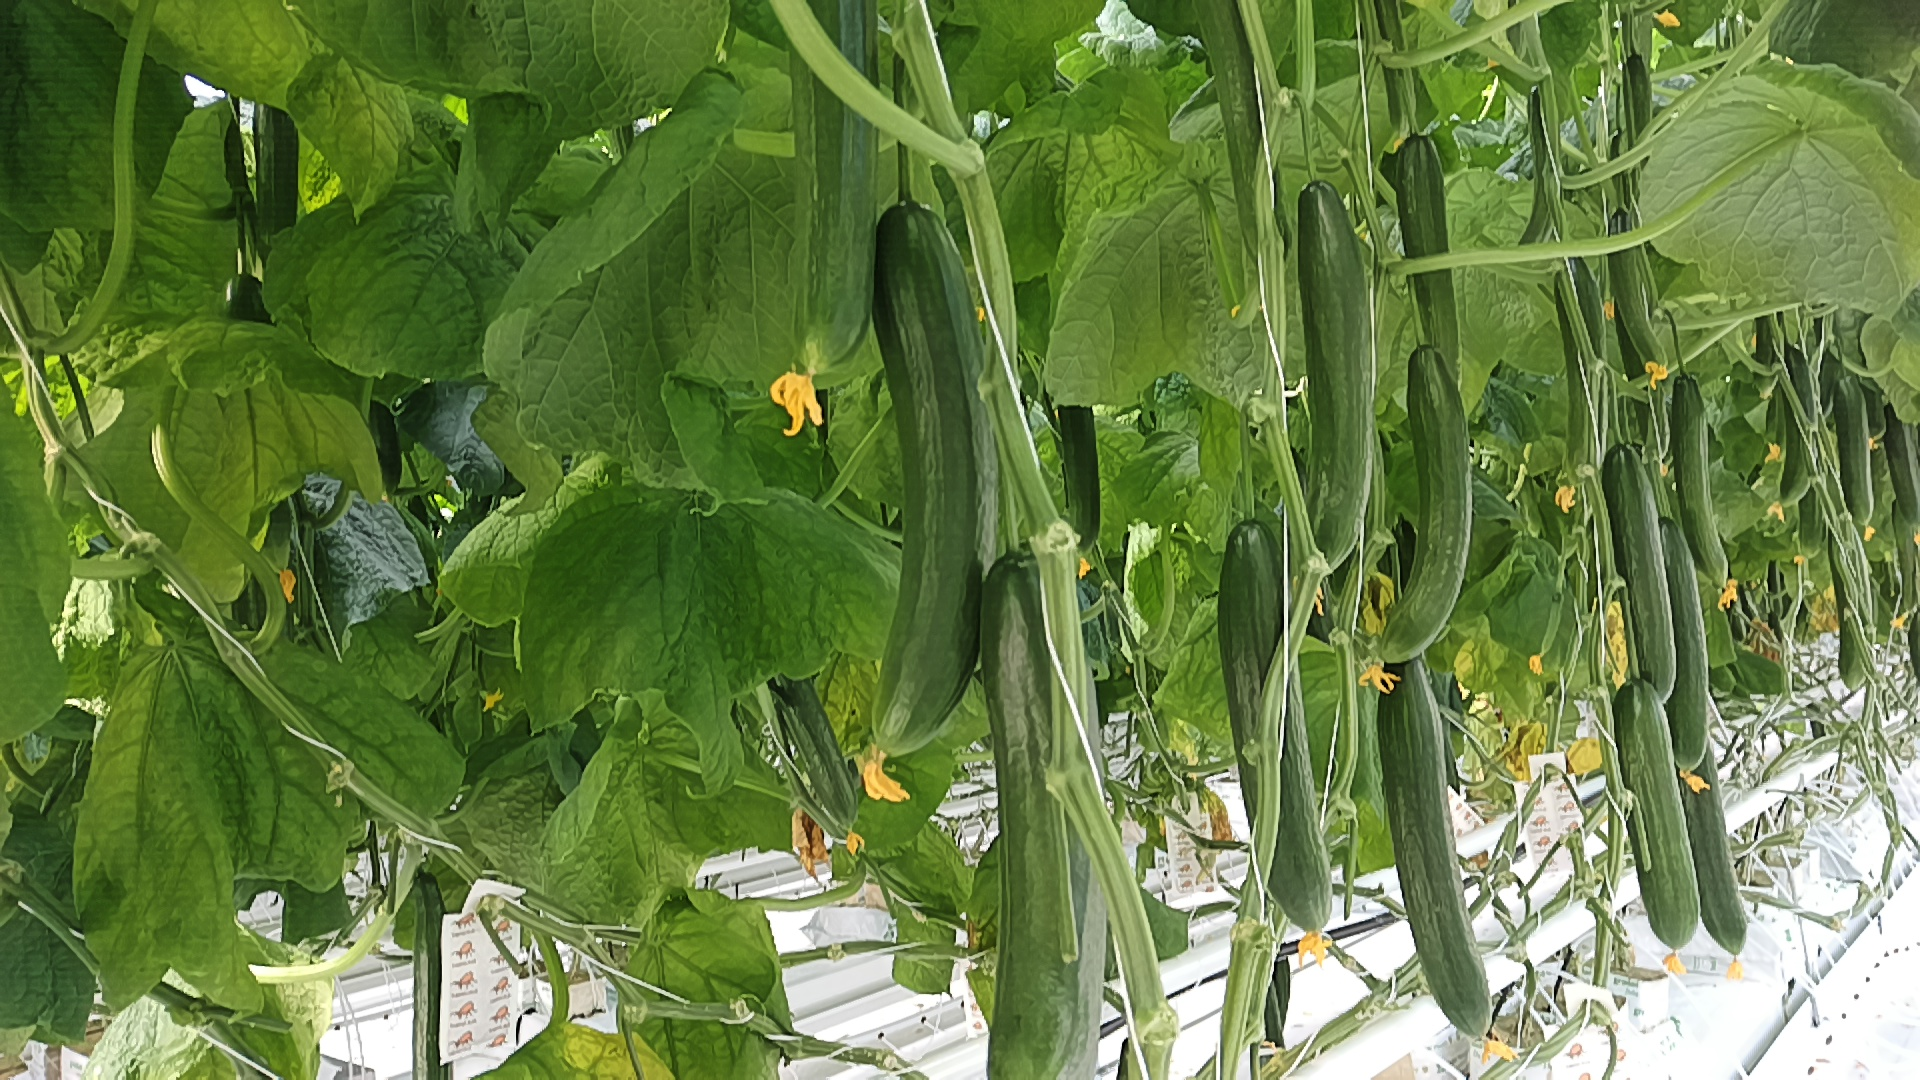gurka: (845, 189, 1034, 789), (1200, 502, 1360, 945), (1367, 636, 1522, 1033), (1284, 175, 1391, 596), (1385, 328, 1478, 675), (1607, 654, 1712, 953), (1592, 429, 1698, 713), (1389, 133, 1487, 396), (1604, 207, 1680, 378)
